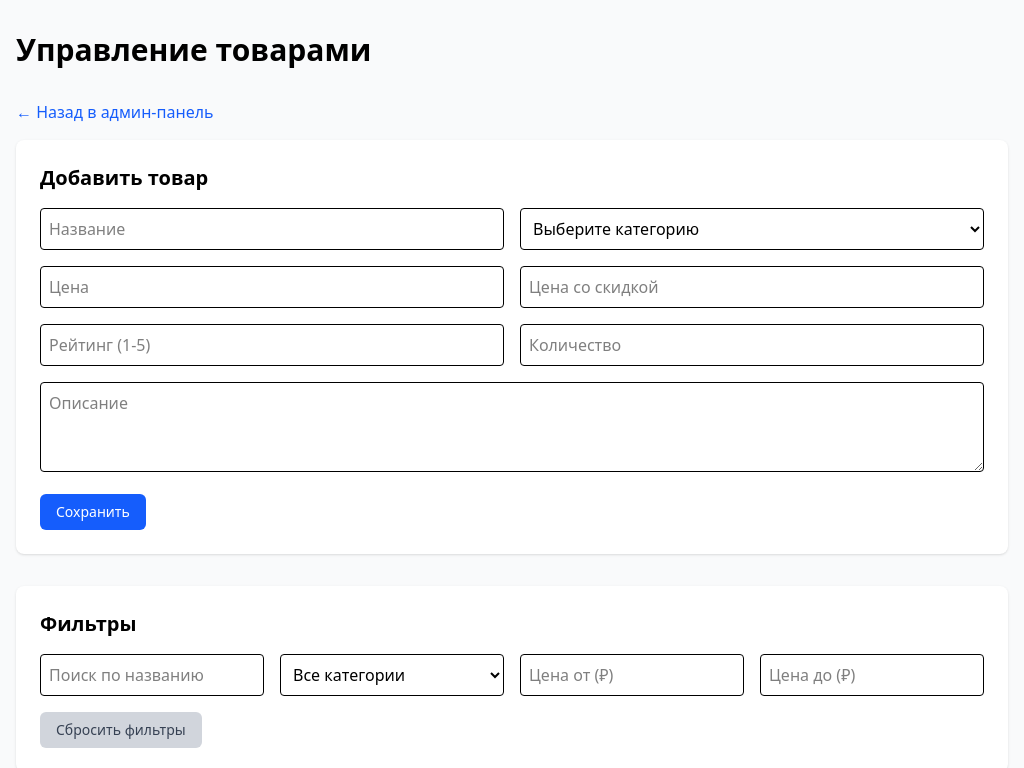
Scenario: AdminProducts › resets filters when reset button clicked
Type "nothing" into the field with placeholder "Поиск по названию" at (152, 675), box [40,654,264,696]
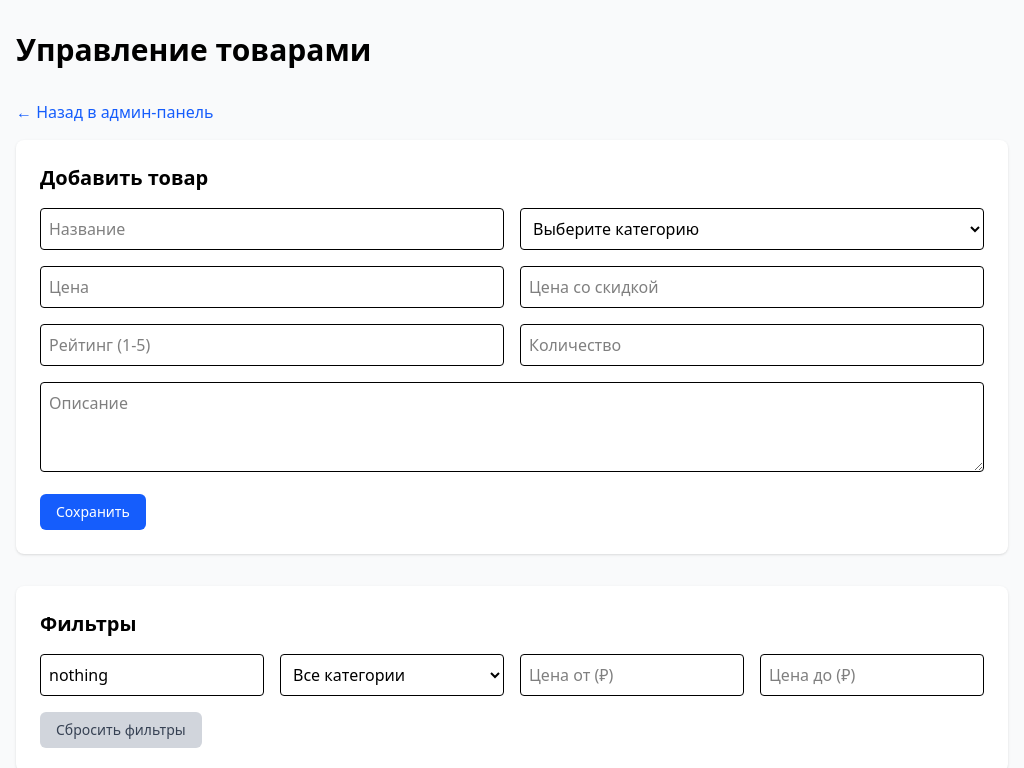
Click the button "Сбросить фильтры" at (121, 730), box [40,712,202,748]
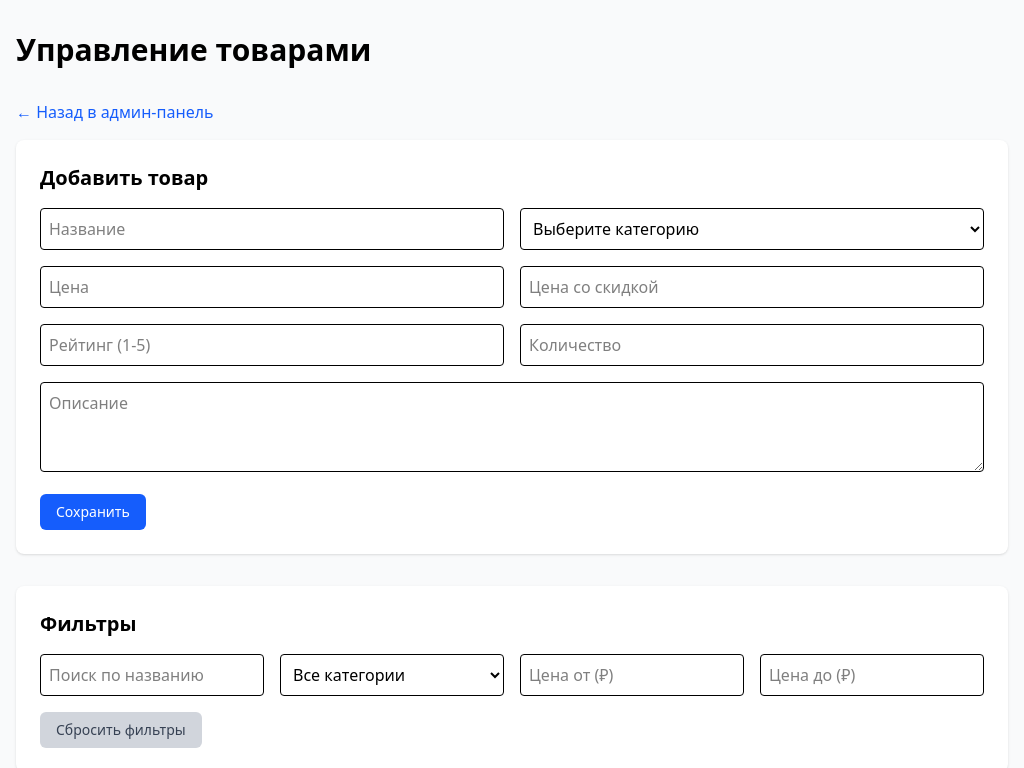
Result: the field with placeholder "Поиск по названию" is empty at [40,654,264,696]
